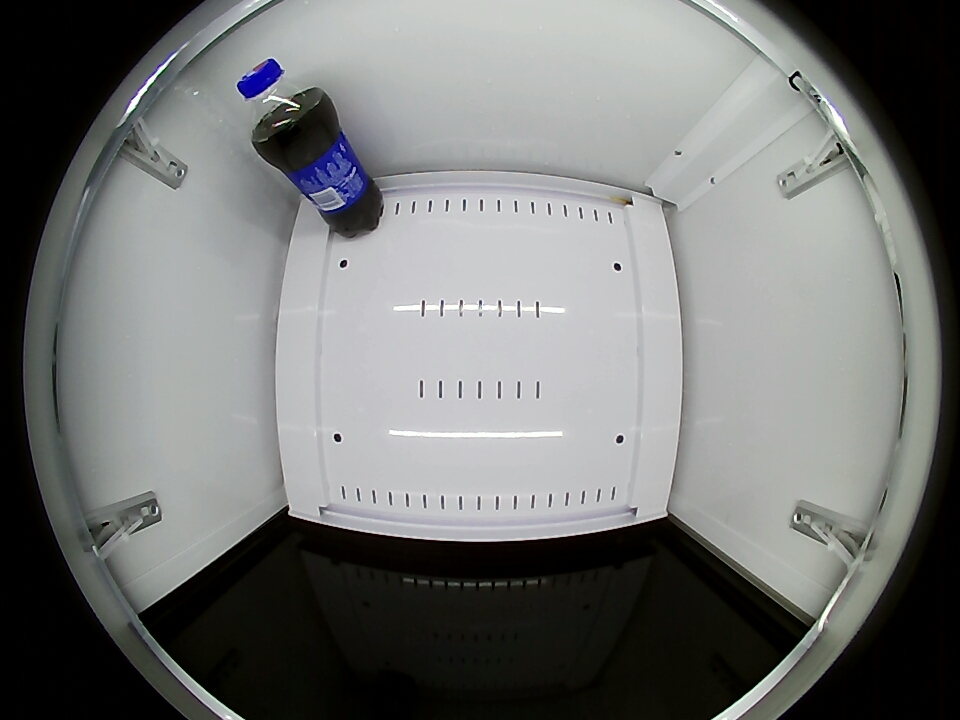baishikele-2: (237, 58, 326, 150)
